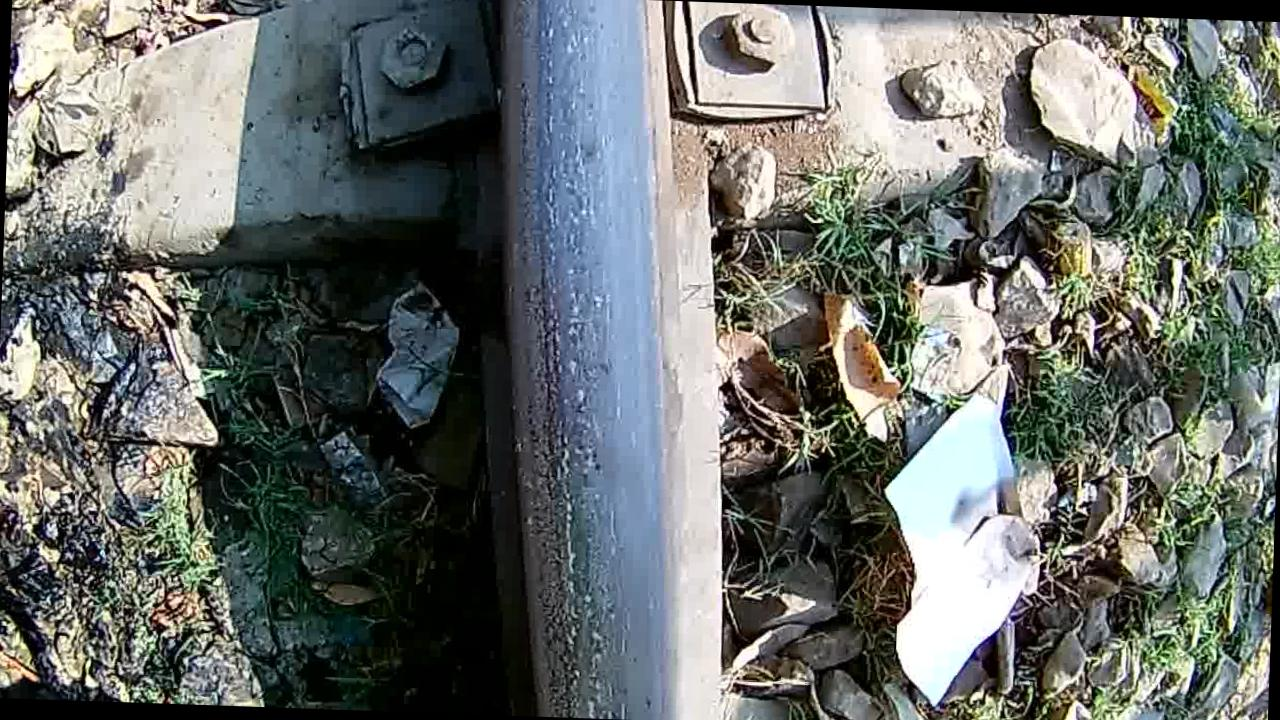clip_missing: (515, 0, 669, 720)
